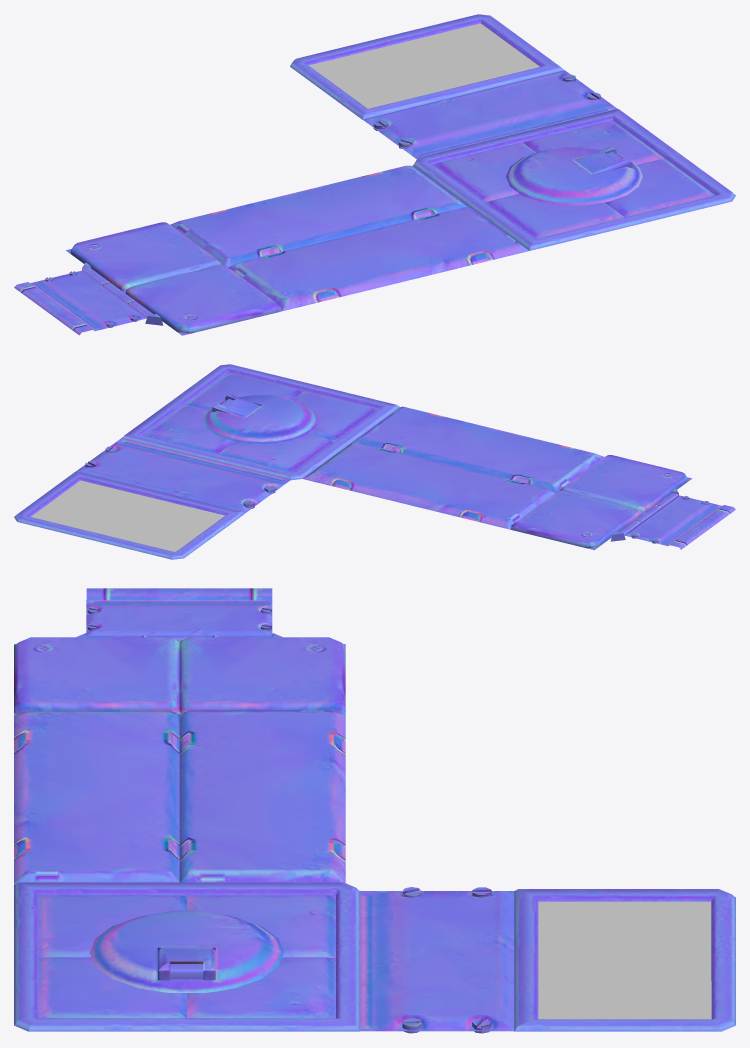
File: Building_A_Staircase_C_Floor_B.fbx
3 views of the same model, one above another, from view 1: azimuth 30°, elevation 25°; view 2: azimuth 150°, elevation 25°; view 3: azimuth 270°, elevation 25° (orthographic). The views are drawn at different scales.
Visible parts, largest first — view 1: Geom_Building_A_Staircase_C_Floor_B_LOD00; view 2: Geom_Building_A_Staircase_C_Floor_B_LOD00; view 3: Geom_Building_A_Staircase_C_Floor_B_LOD00.
Boxes of the visible parts, box(x1,y1,x2,y2) form: Geom_Building_A_Staircase_C_Floor_B_LOD00: box(14, 14, 735, 335); Geom_Building_A_Staircase_C_Floor_B_LOD00: box(14, 364, 735, 559); Geom_Building_A_Staircase_C_Floor_B_LOD00: box(14, 588, 735, 1033).
Size of what is drawn, in the model's own units: 1071 by 34.22 by 740.
